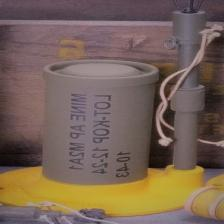M2A1: (16, 3, 211, 214)
